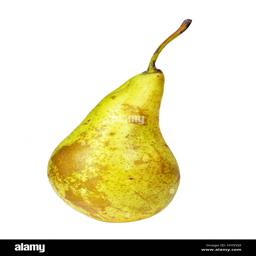Pear Semirotten: (23, 12, 212, 219)
